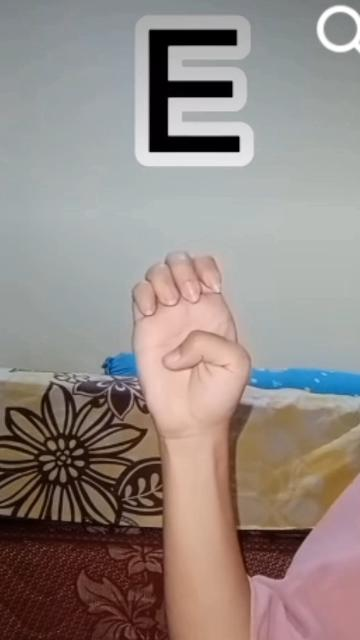E: (127, 250, 255, 440)
